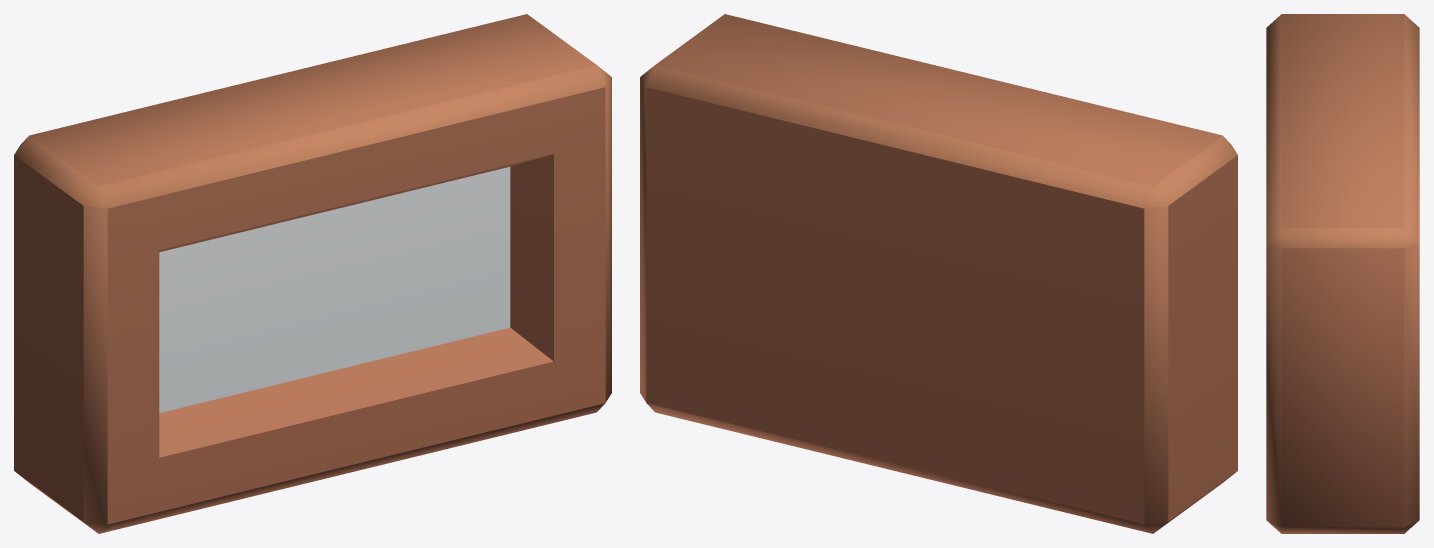
Rendered from pictureframe_small_B.obj.
The picture shows the model from 3 angles, left to right: view 1: azimuth 30°, elevation 25°; view 2: azimuth 150°, elevation 25°; view 3: azimuth 270°, elevation 25°; orthographic projection. The views are drawn at different scales.
Parts seen in each view (by area): view 1: pictureframe_small_B_Cube.017; view 2: pictureframe_small_B_Cube.017; view 3: pictureframe_small_B_Cube.017.
Part boxes in pixels (bbox=[...]): pictureframe_small_B_Cube.017: bbox=[14, 14, 611, 533]; pictureframe_small_B_Cube.017: bbox=[640, 14, 1237, 533]; pictureframe_small_B_Cube.017: bbox=[1266, 14, 1419, 533].
Bounding box in the file's own units: 0.7 × 0.44 × 0.2.
1 material, 1 textured.
